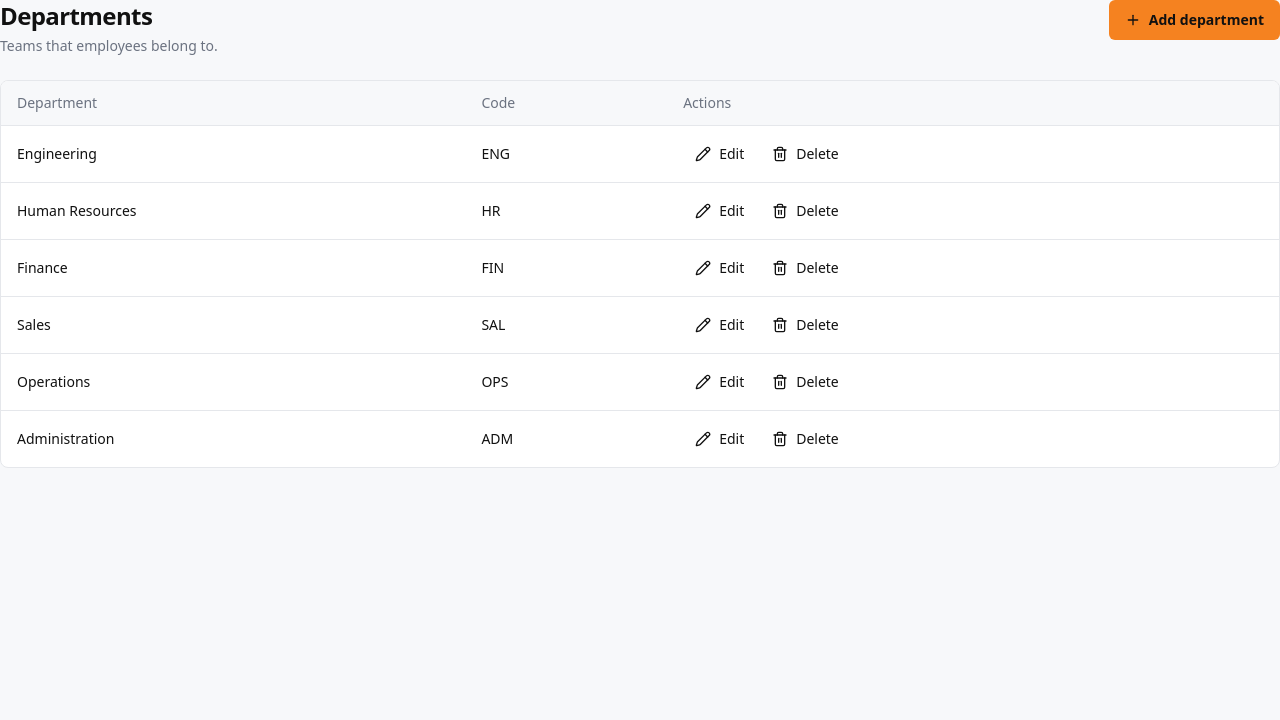
Test case: CrudPage › validates, then adds a department
Expected: the text "Engineering" is shown, [1, 126, 465, 182]
Click the button "Add department" at (1194, 20), box [1109, 0, 1279, 40]
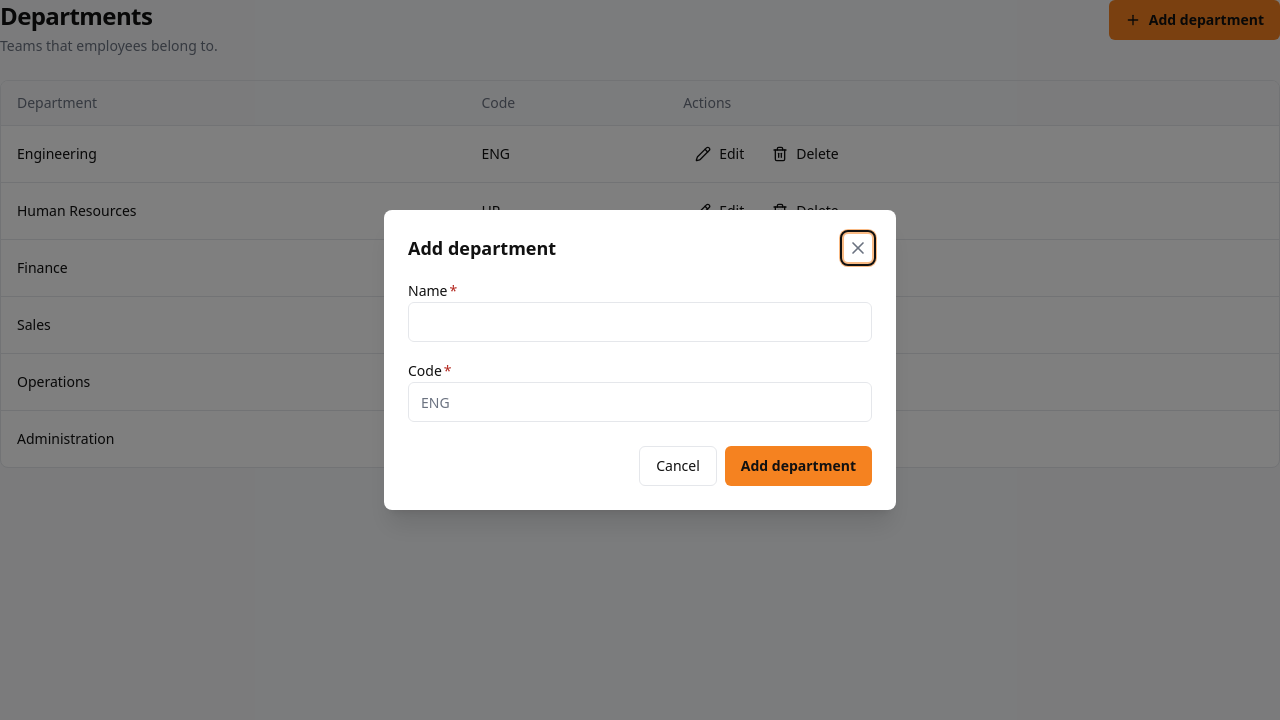
Click the button "Add department" at (798, 466), box [725, 446, 872, 486]
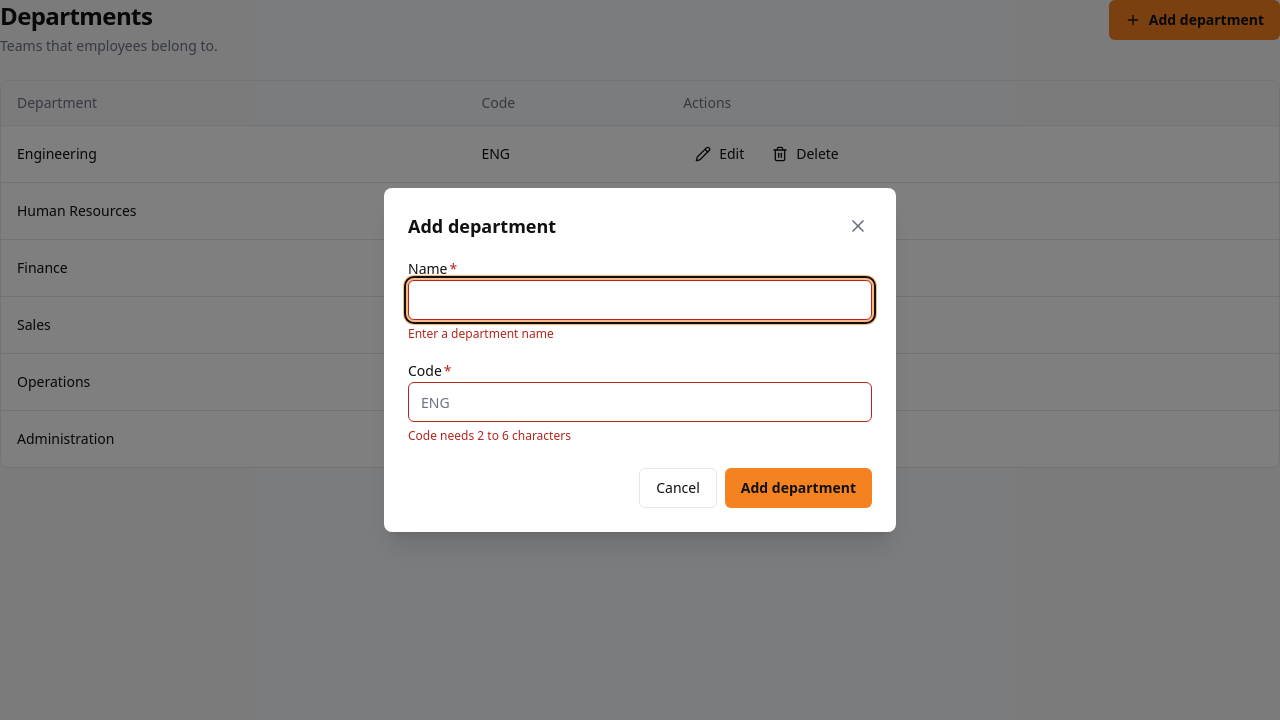
Now the text "Enter a department name" is shown, box [408, 325, 554, 342]
Type "Legal" into the field labelled "Name*" at (640, 300), box [408, 280, 872, 320]
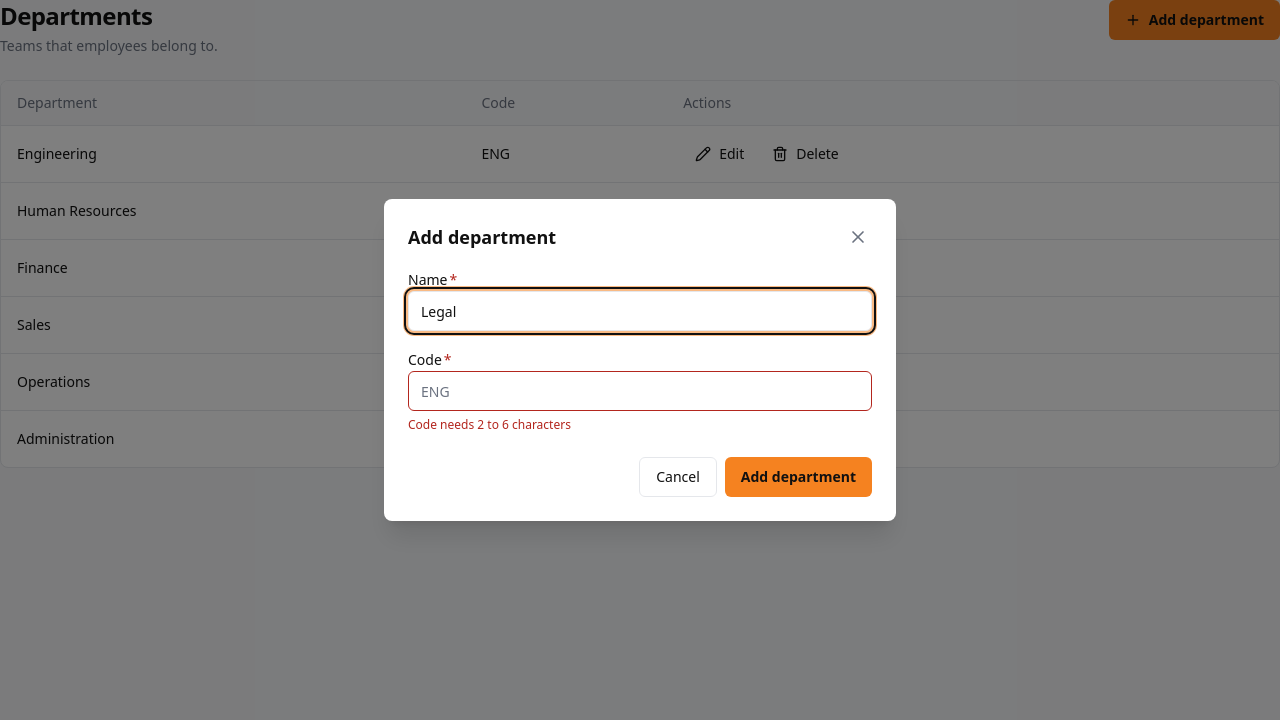
Type "LEG" into the field labelled "Code*" at (640, 391), box [408, 371, 872, 411]
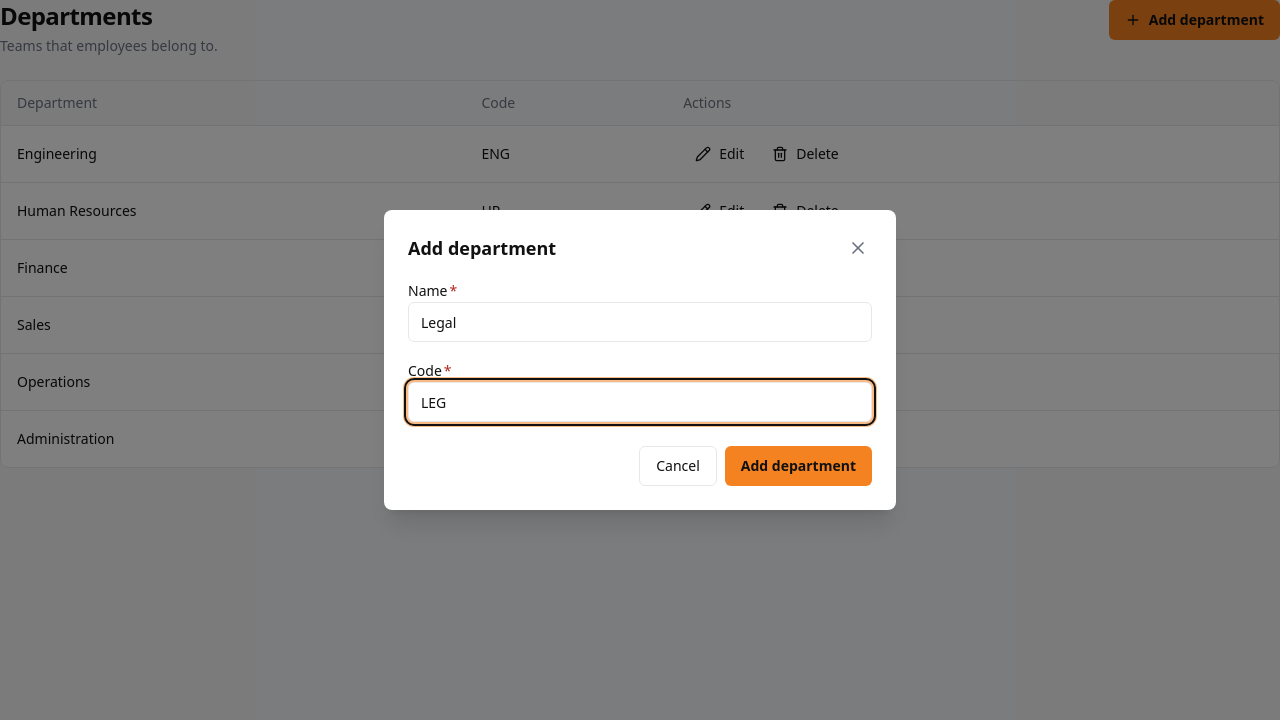
Click the button "Add department" at (798, 466), box [725, 446, 872, 486]
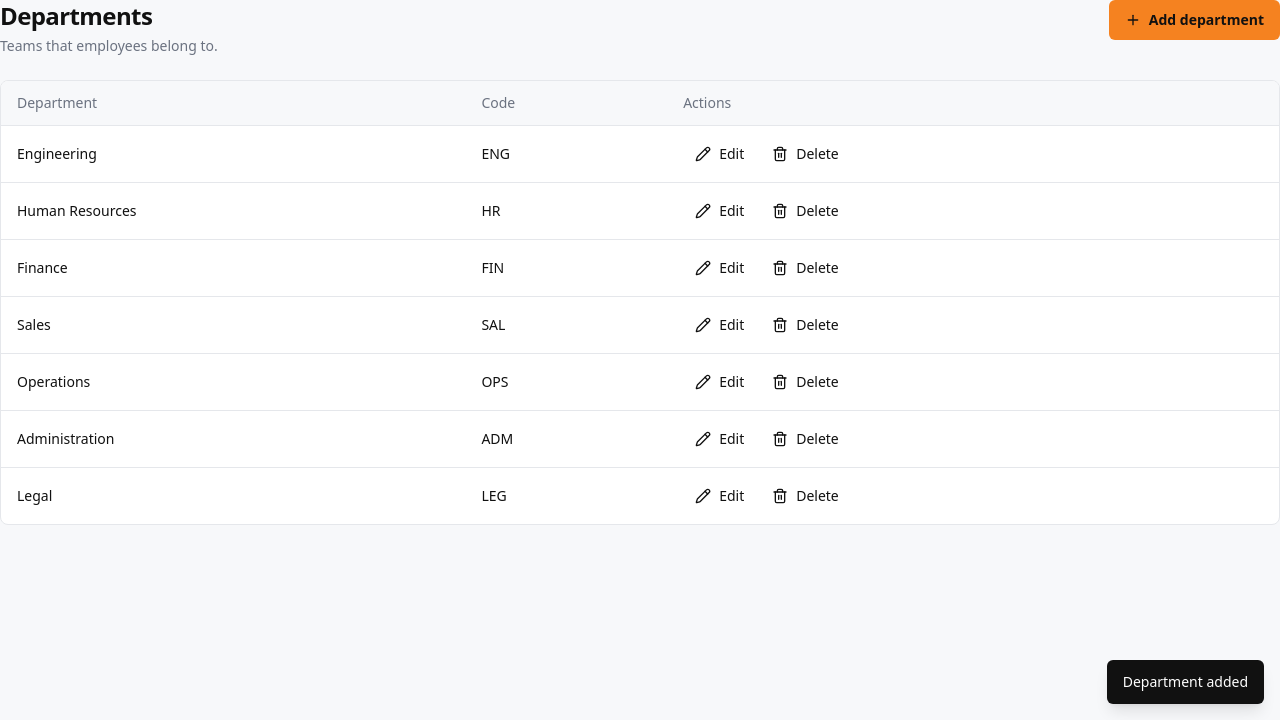
Now the dialog is gone
Now the text "Legal" is shown, box [1, 468, 465, 524]
